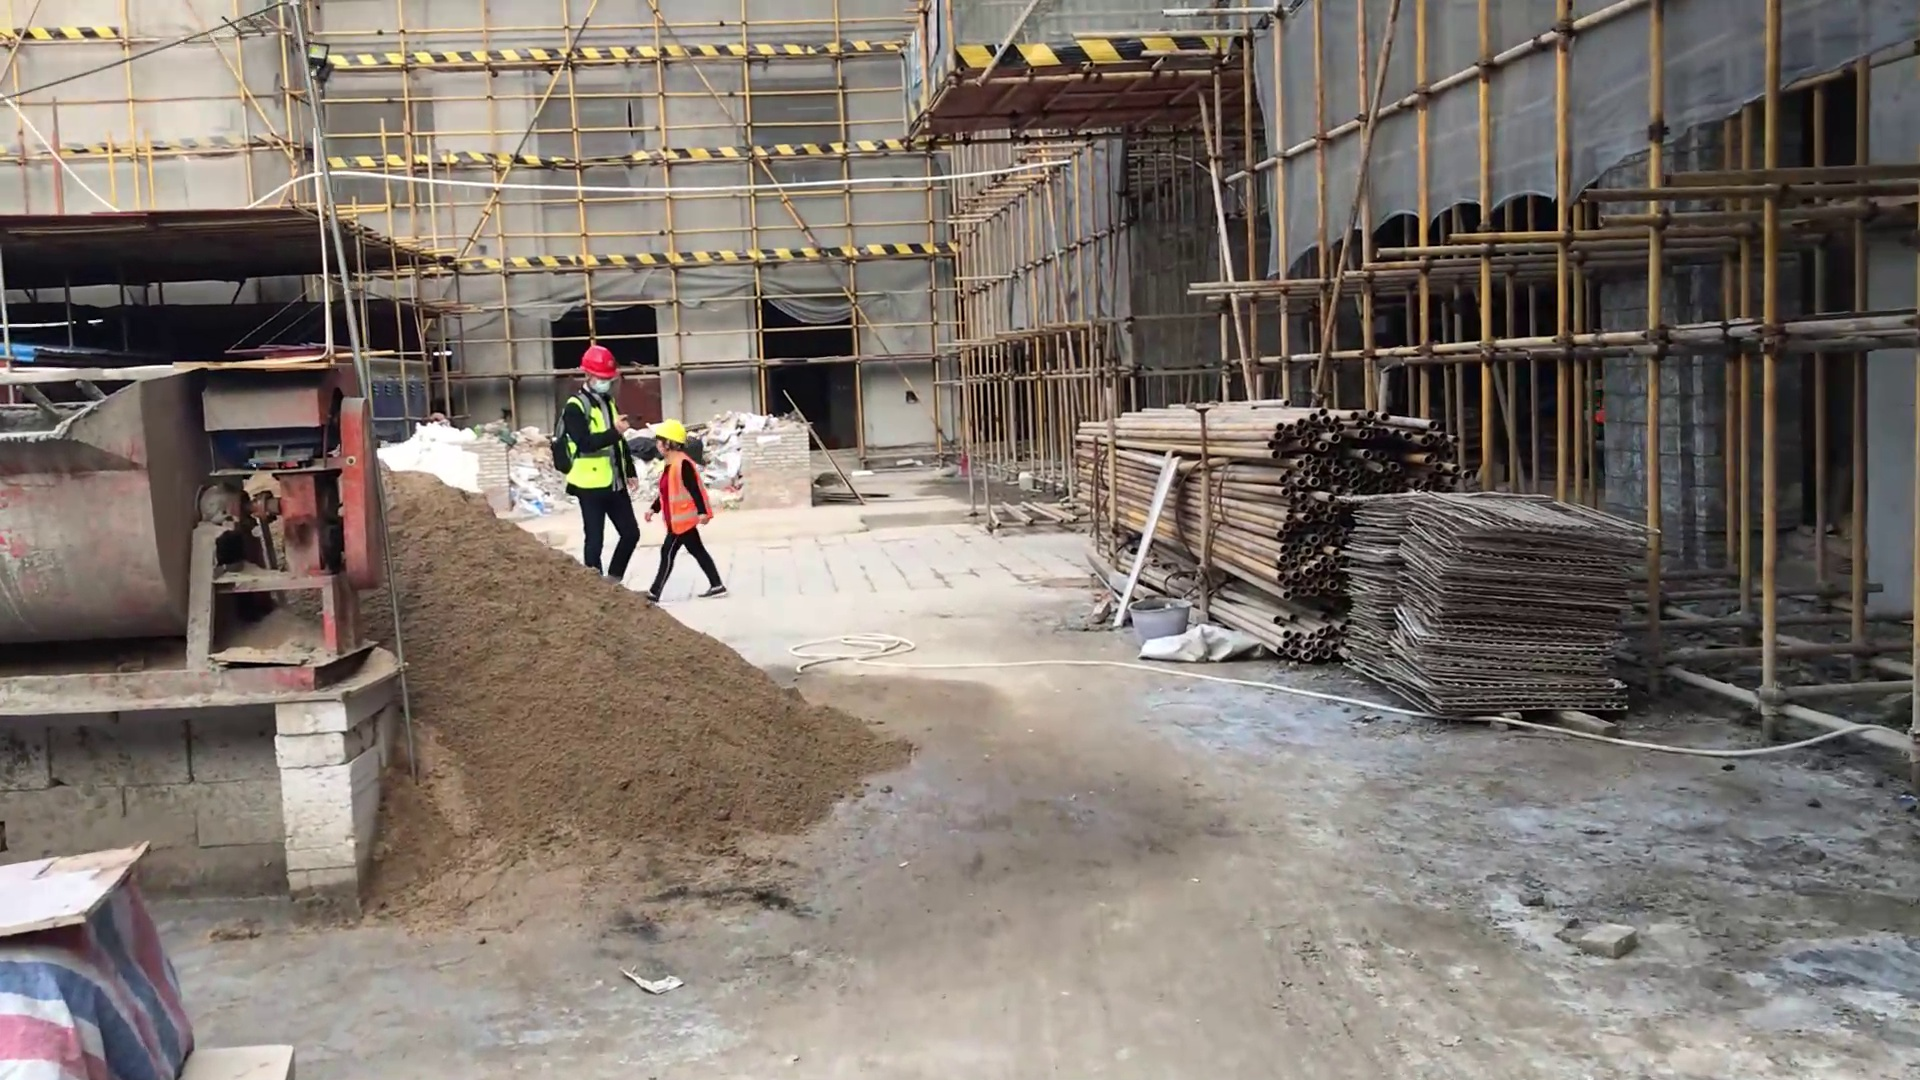helmet: (564, 332, 623, 383), (649, 411, 697, 449)
person: (549, 339, 644, 593), (641, 397, 733, 605)
vest: (560, 385, 633, 500), (652, 454, 715, 541)
